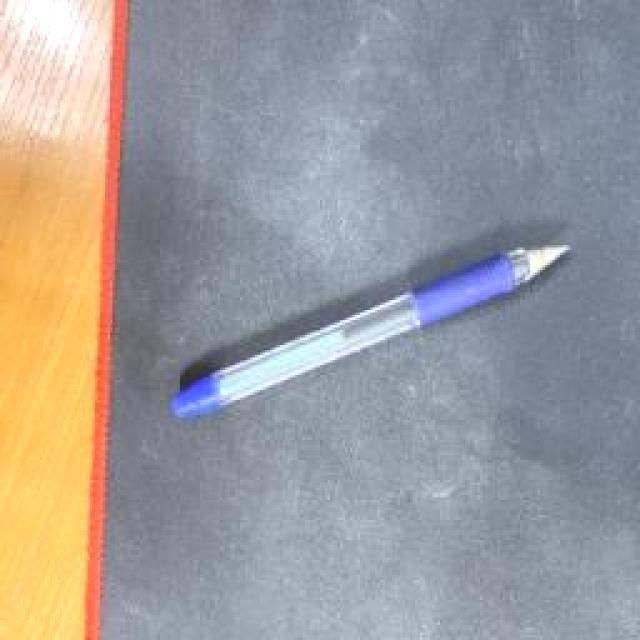pen: (170, 235, 570, 420)
